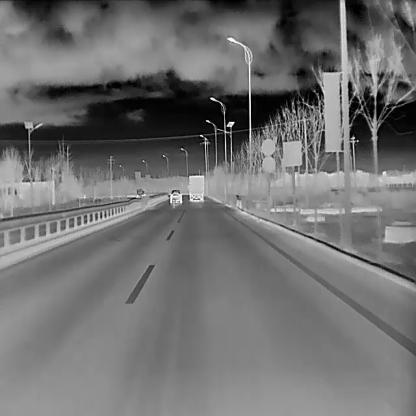car: (188, 174, 205, 201), (169, 189, 182, 203), (136, 188, 143, 198)
